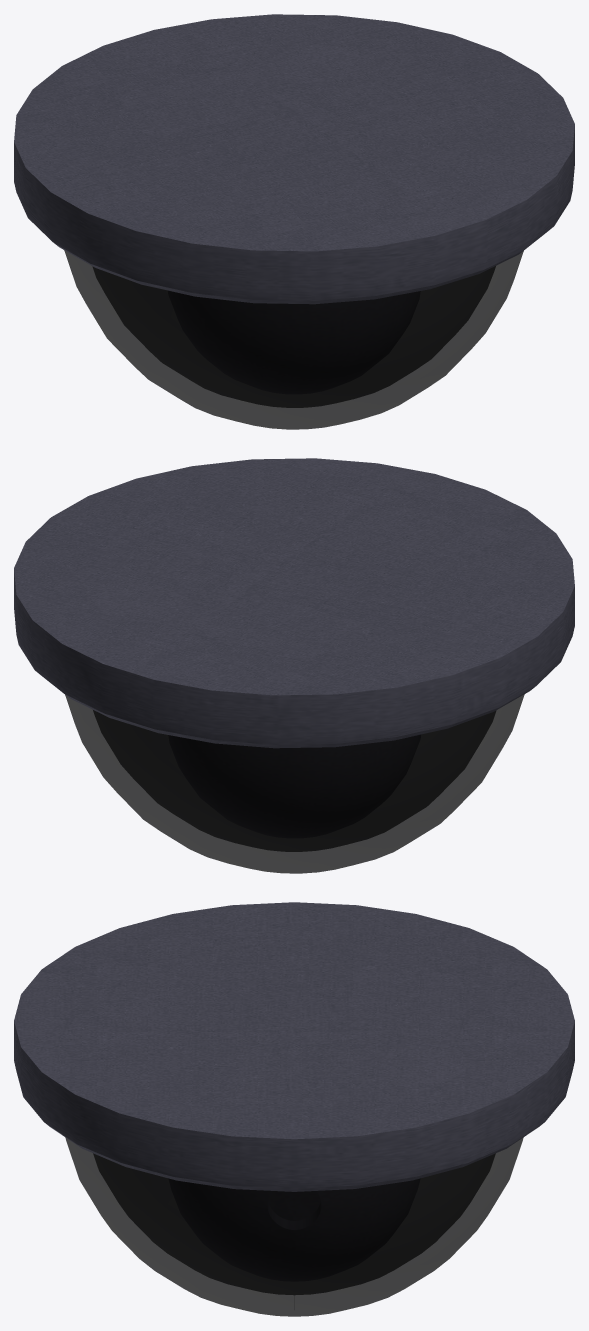
The model's file is test camera.FBX.
The picture shows the model from 3 angles, top to bottom: view 1: azimuth 30°, elevation 25°; view 2: azimuth 150°, elevation 25°; view 3: azimuth 270°, elevation 25°; orthographic projection.
Parts seen in each view (by area): view 1: Cylinder001, outer glass shield, Sphere004; view 2: Cylinder001, outer glass shield, Sphere004; view 3: Cylinder001, outer glass shield, Sphere004.
Boxes of the visible parts, x1=… form: Cylinder001: x1=14, y1=14, x2=574, y2=304; outer glass shield: x1=64, y1=250, x2=523, y2=429; Sphere004: x1=168, y1=291, x2=420, y2=393; Cylinder001: x1=14, y1=458, x2=574, y2=748; outer glass shield: x1=65, y1=694, x2=524, y2=873; Sphere004: x1=168, y1=735, x2=420, y2=837; Cylinder001: x1=14, y1=902, x2=574, y2=1191; outer glass shield: x1=65, y1=1137, x2=523, y2=1316; Sphere004: x1=169, y1=1179, x2=419, y2=1281.
Size of the model in its own units: 10.24 by 5.52 by 10.24.
3 materials, 2 textured.
